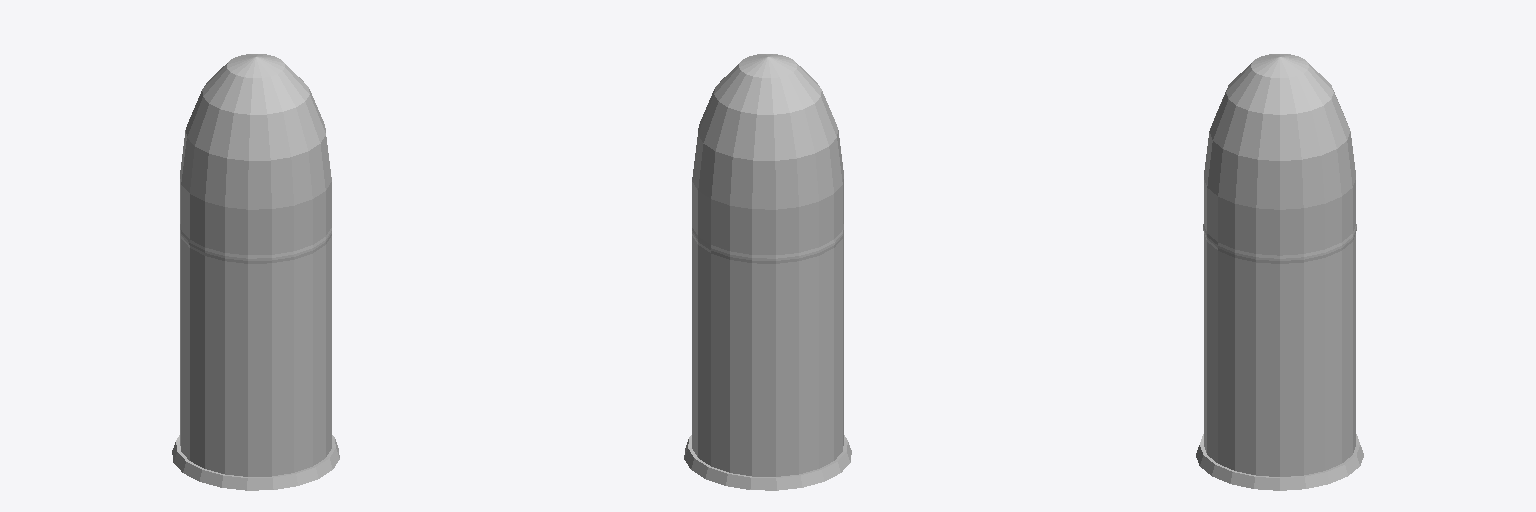
Rendered from ASM - PBR Metallic Roughness.obj.
The picture shows the model from 3 angles: view 1: azimuth 30°, elevation 25°; view 2: azimuth 150°, elevation 25°; view 3: azimuth 270°, elevation 25°; orthographic projection.
Parts seen in each view (by area): view 1: pCylinder1; view 2: pCylinder1; view 3: pCylinder1.
Boxes of the visible parts, x1,y1,x2,y2 form: pCylinder1: [172, 54, 339, 490]; pCylinder1: [684, 54, 851, 490]; pCylinder1: [1196, 54, 1363, 490].
Size of the model in its own units: 2.21 by 5.75 by 2.21.